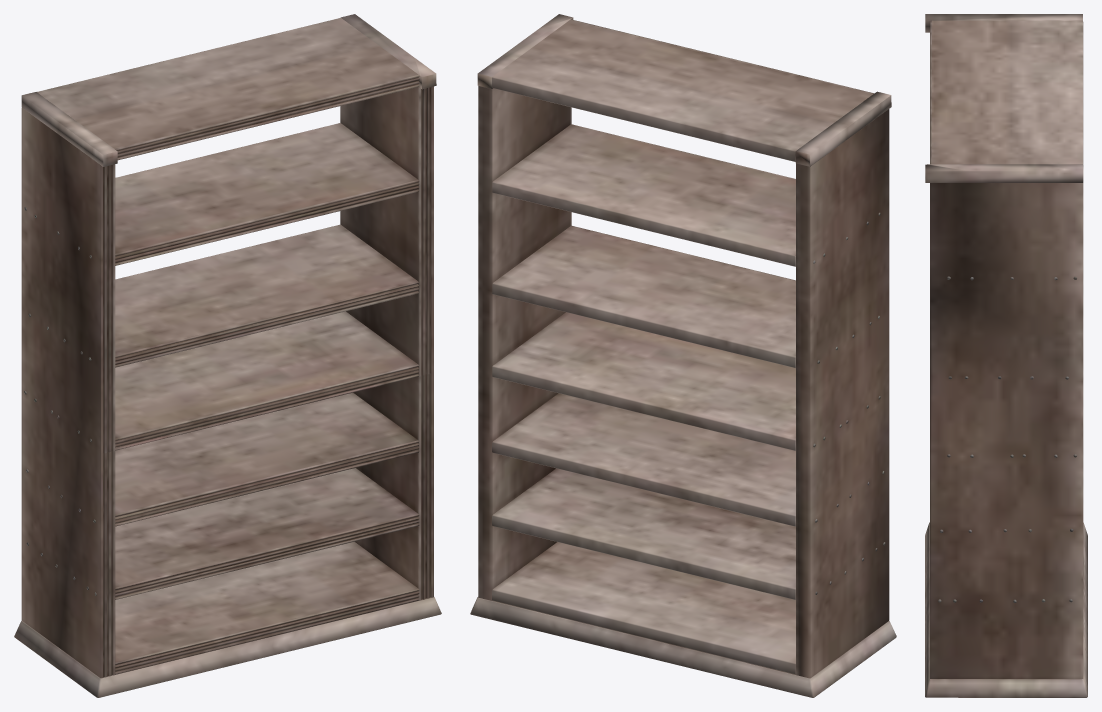
File: bookcase-worn.glb
The picture shows the model from 3 angles, left to right: view 1: azimuth 30°, elevation 25°; view 2: azimuth 150°, elevation 25°; view 3: azimuth 270°, elevation 25°; orthographic projection. The views are drawn at different scales.
Parts seen in each view (by area): view 1: wooden_bookshelf_worn; view 2: wooden_bookshelf_worn; view 3: wooden_bookshelf_worn.
Part boxes in pixels (left/top/right/bottom): wooden_bookshelf_worn: left=14, top=14, right=441, bottom=697; wooden_bookshelf_worn: left=470, top=14, right=896, bottom=697; wooden_bookshelf_worn: left=925, top=14, right=1087, bottom=697.
Size of the model in its own units: 1.37 by 2.06 by 0.5814.
1 material, 1 textured.
